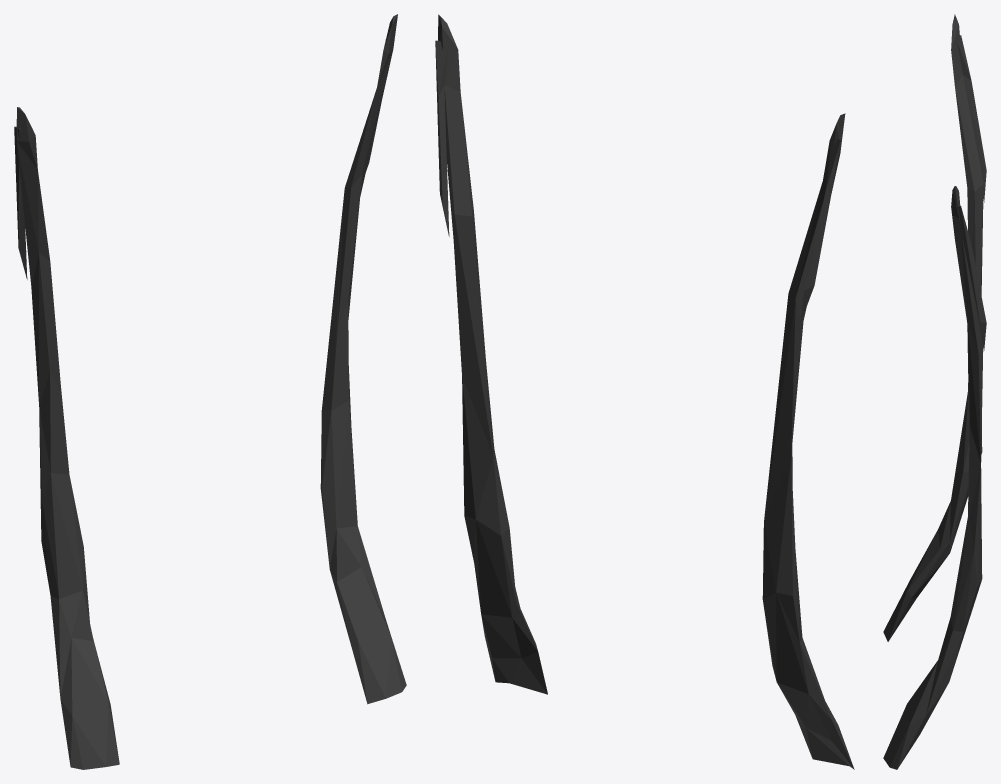
File: tendon_extensor_digitorum_communis.glb
The picture shows the model from 3 angles, left to right: view 1: azimuth 30°, elevation 25°; view 2: azimuth 150°, elevation 25°; view 3: azimuth 270°, elevation 25°; orthographic projection. The views are drawn at different scales.
Parts seen in each view (by area): view 1: tendon_extensor_digitorum_communis; view 2: tendon_extensor_digitorum_communis; view 3: tendon_extensor_digitorum_communis.
Part boxes in pixels (x1,y1,x2,y2): tendon_extensor_digitorum_communis: [14, 14, 406, 769]; tendon_extensor_digitorum_communis: [435, 14, 854, 769]; tendon_extensor_digitorum_communis: [883, 14, 986, 769].
Bounding box in the file's own units: 0.00449 × 0.00729 × 0.00114.
Materials: 1 (1 with a texture image).
